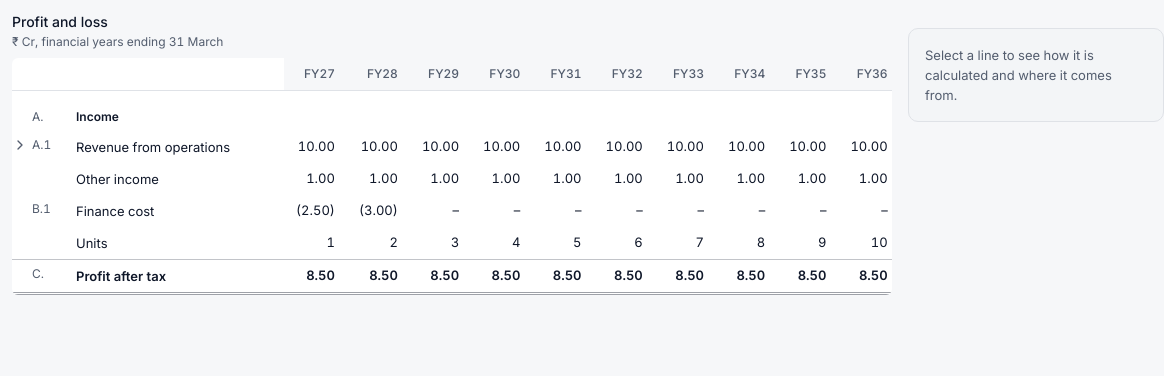
StatementTable › the chevron toggles, the label selects: separate buttons
Click the button named "Breakdown of Revenue from operations". click: click(20, 145)
box: left=12, top=137, right=28, bottom=153
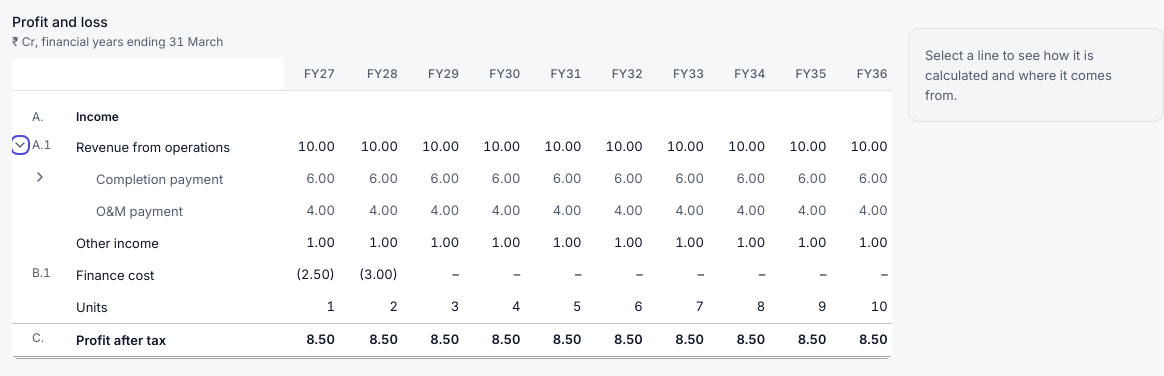
Expected: the element named "Line detail" shows "Select a line", left=925, top=47, right=1112, bottom=103
Result: the button named "Breakdown of Revenue from operations" is expanded at left=12, top=137, right=28, bottom=153
Click the button "A.1 Revenue from operations". click: click(152, 147)
box: left=32, top=135, right=272, bottom=159
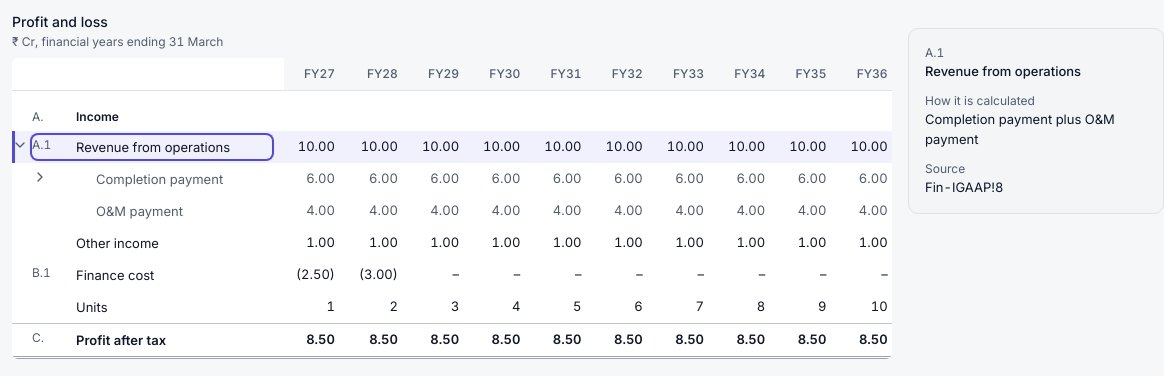
Result: the button named "Breakdown of Revenue from operations" is expanded at left=12, top=137, right=28, bottom=153
Result: the element named "Line detail" shows "Completion payment plus O&M payment" at left=925, top=111, right=1115, bottom=147
Result: the element named "Line detail" shows "Fin-IGAAP!8" at left=925, top=179, right=1003, bottom=195
Click the button "B.1 Finance cost". click: click(152, 275)
box: left=32, top=263, right=272, bottom=287
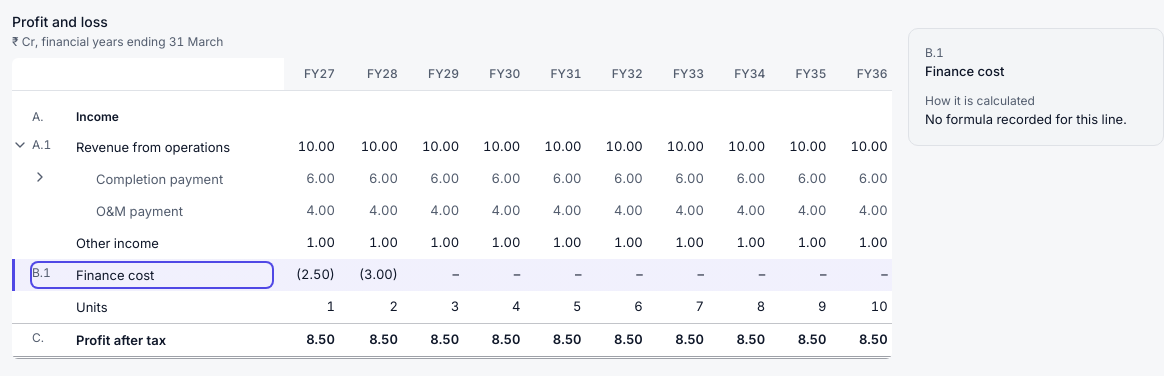
Result: the element named "Line detail" shows "No formula recorded" at left=925, top=111, right=1127, bottom=127
